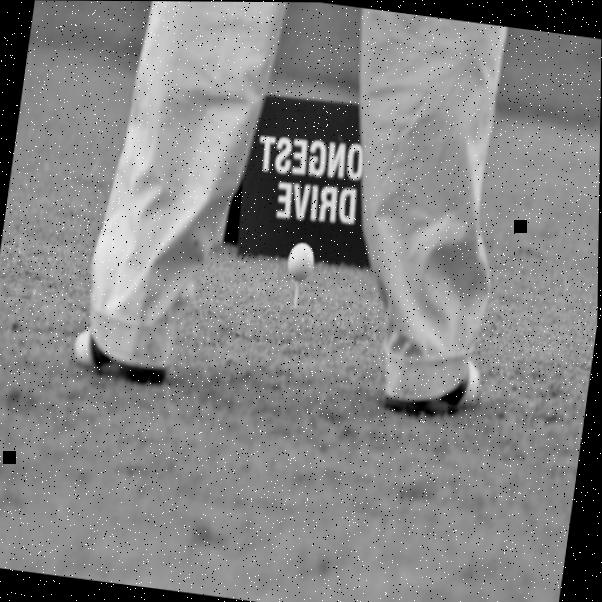GolfBall: (278, 234, 323, 289)
